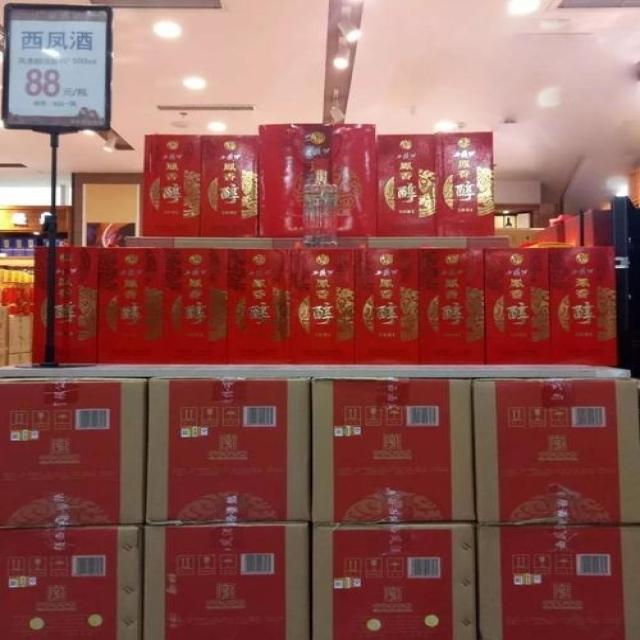box: (145, 376, 311, 527), (474, 377, 640, 526), (311, 378, 476, 526), (0, 376, 148, 530), (142, 521, 310, 640), (314, 521, 477, 640), (479, 523, 640, 640), (0, 527, 145, 640), (257, 125, 376, 236), (548, 247, 618, 366), (95, 247, 165, 363), (31, 247, 100, 362), (353, 248, 421, 363), (484, 248, 552, 363), (163, 247, 228, 365), (289, 247, 355, 363), (420, 248, 484, 363), (228, 249, 289, 362), (140, 135, 202, 236), (198, 135, 259, 237), (435, 131, 494, 236), (376, 135, 436, 236), (564, 210, 613, 246), (9, 315, 31, 354)
